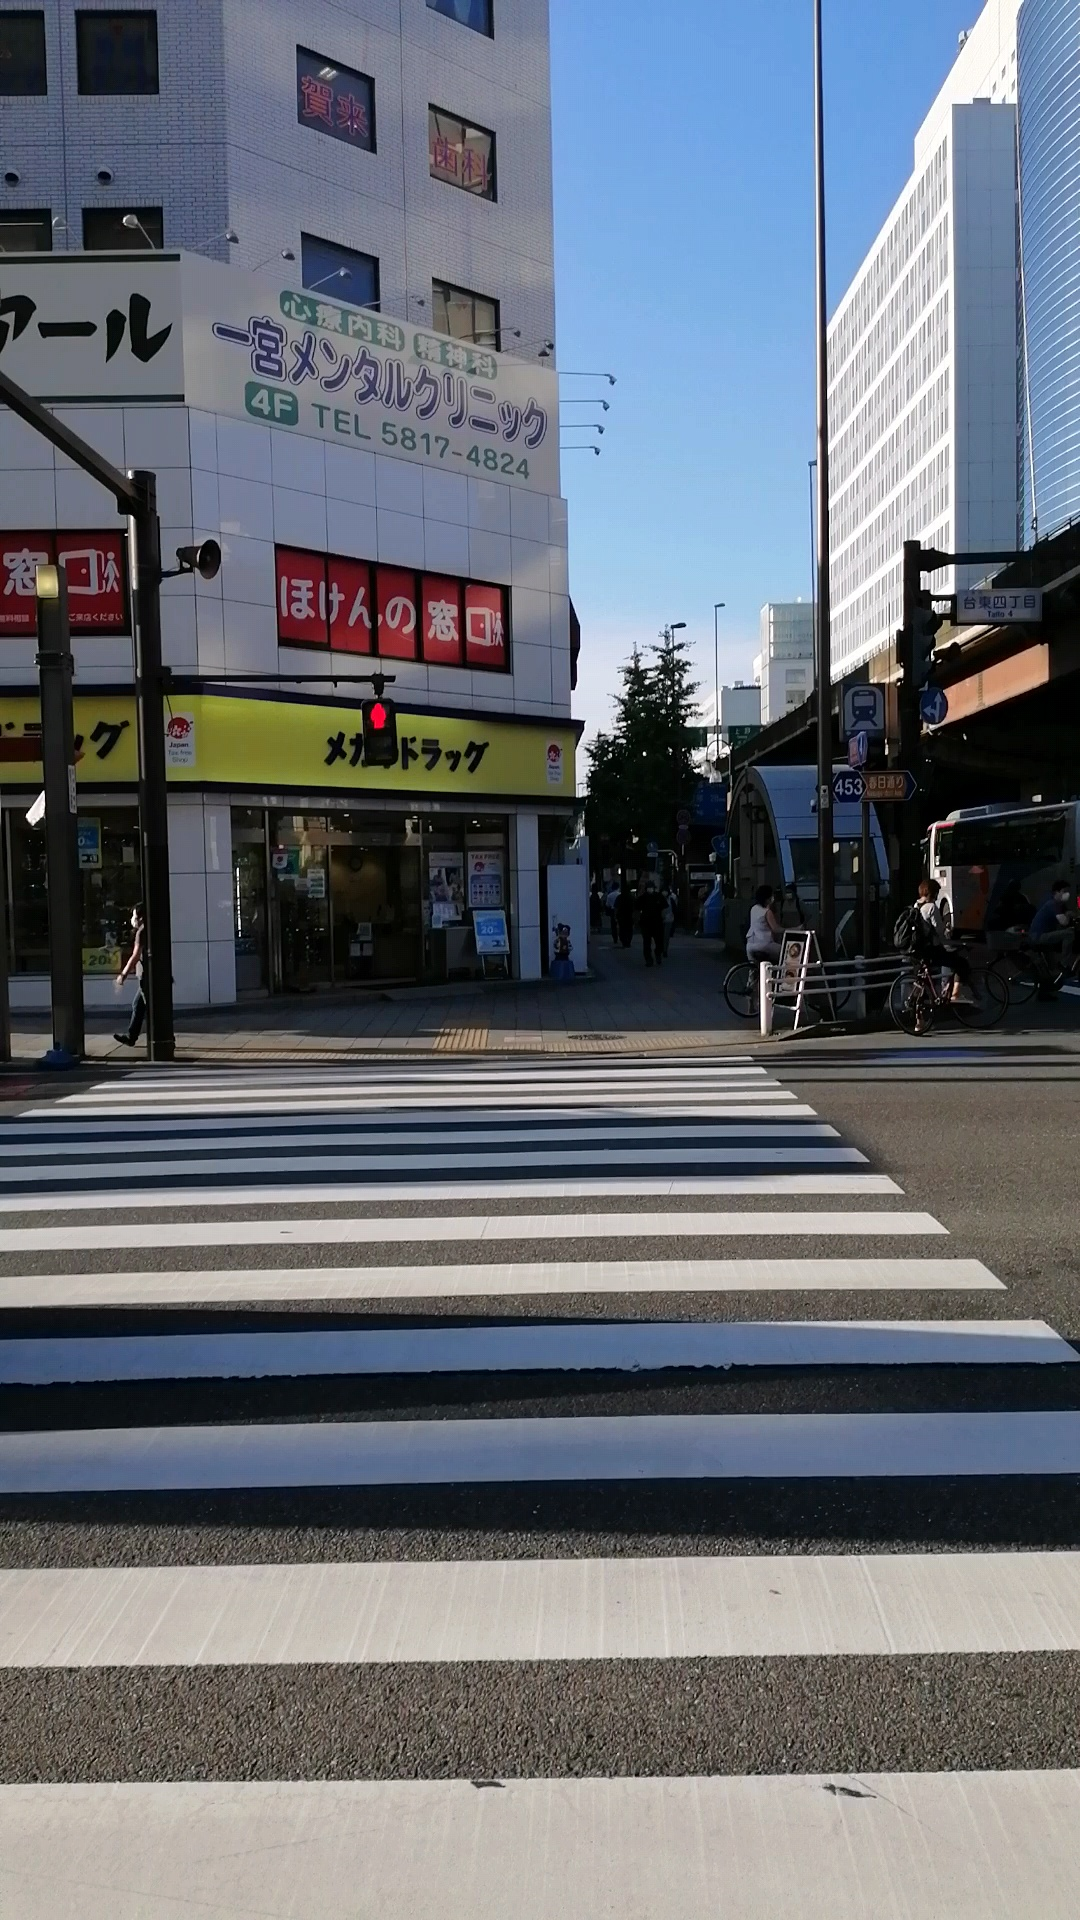red: (353, 694, 401, 775)
